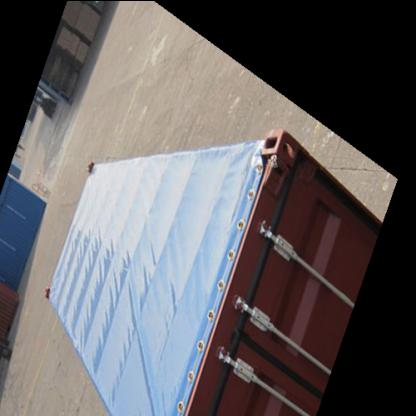Damage: (268, 138, 314, 198), (219, 308, 245, 355)
